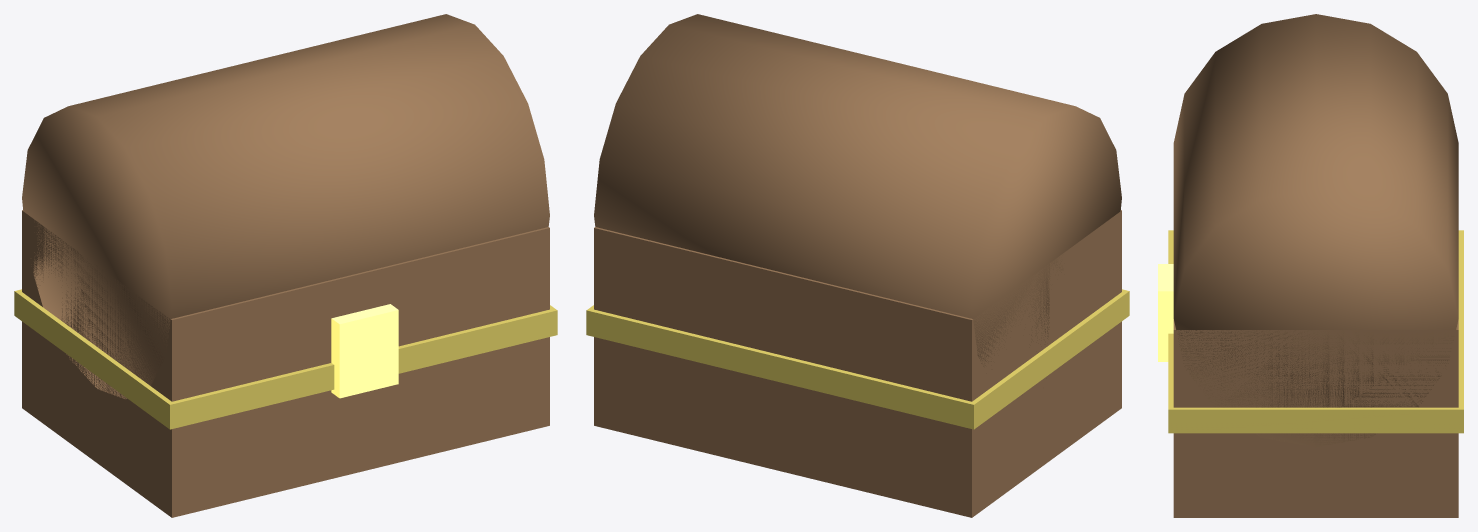
Rendered from 0c0cc2d4-9e46-4a17-9706-e2758cfb785d.glb.
3 renders of one model, left to right at view 1: azimuth 30°, elevation 25°; view 2: azimuth 150°, elevation 25°; view 3: azimuth 270°, elevation 25°, orthographic. The views are drawn at different scales.
Parts seen in each view (by area): view 1: Generated3DMesh; view 2: Generated3DMesh; view 3: Generated3DMesh.
Part boxes in pixels (box(x1,y1,x2,y2)): Generated3DMesh: box(14, 14, 557, 517); Generated3DMesh: box(586, 14, 1129, 517); Generated3DMesh: box(1158, 14, 1463, 517).
Size of the model in its own units: 1.64 by 1.4 by 1.18.
